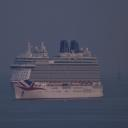cruises: (9, 38, 106, 102)
